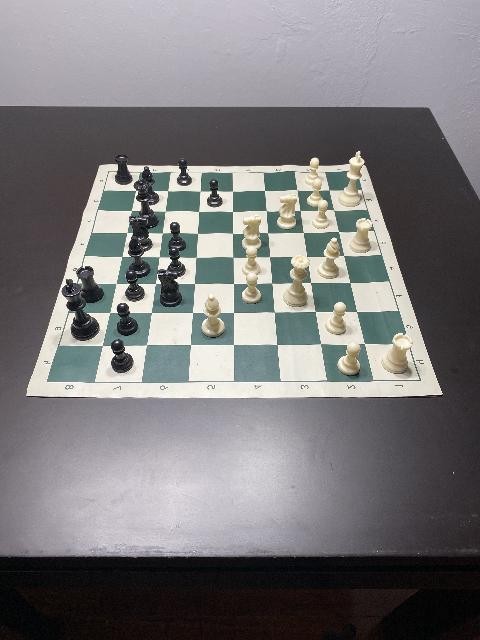black-bishop: (129, 236, 150, 276), (138, 166, 158, 207)
black-king: (62, 278, 100, 339)
black-knight: (157, 270, 181, 306), (129, 216, 153, 250)
black-pawn: (110, 339, 134, 373), (116, 303, 138, 335), (125, 270, 145, 302), (166, 247, 185, 277), (168, 221, 186, 251), (206, 178, 222, 208), (177, 159, 191, 185)
black-queen: (133, 180, 156, 228)
black-rook: (76, 265, 104, 303), (114, 153, 132, 184)
board: (26, 165, 442, 398)
white-bishop: (201, 294, 224, 338), (316, 238, 340, 278)
white-king: (338, 150, 363, 207)
white-knight: (276, 193, 296, 229), (242, 214, 260, 250)
white-pawn: (338, 342, 360, 374), (326, 302, 346, 334), (312, 199, 330, 229), (242, 273, 260, 303), (243, 247, 260, 276), (304, 158, 320, 186), (307, 178, 323, 206)
white-queen: (283, 255, 309, 308)
white-rook: (381, 333, 413, 373), (348, 218, 372, 254)
